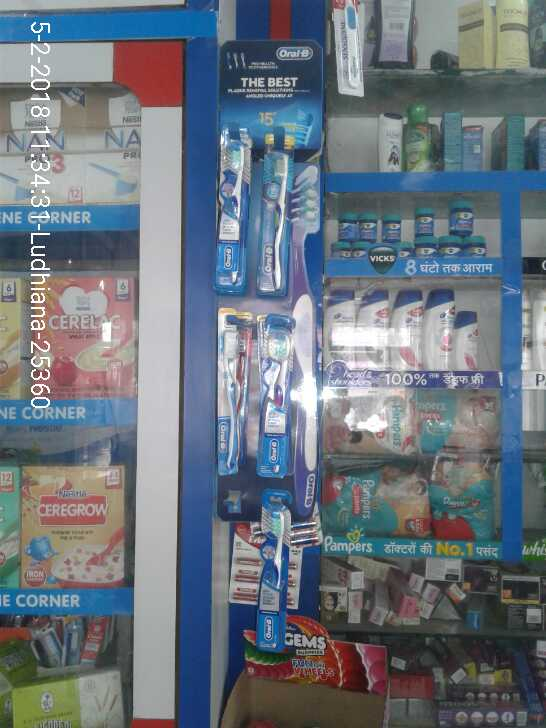beauty: (361, 284, 393, 376), (322, 290, 359, 368), (423, 287, 456, 374), (393, 288, 424, 374), (454, 301, 485, 375)
pharmacy: (319, 467, 433, 543), (319, 385, 417, 461), (419, 387, 511, 454), (430, 455, 497, 542), (264, 320, 301, 476), (216, 134, 253, 288), (258, 500, 289, 649), (217, 320, 247, 473), (262, 145, 291, 300), (447, 197, 478, 230), (332, 206, 356, 243), (379, 207, 402, 245), (411, 206, 435, 237), (439, 230, 461, 259), (468, 235, 490, 264), (358, 211, 379, 239), (413, 234, 436, 257)
